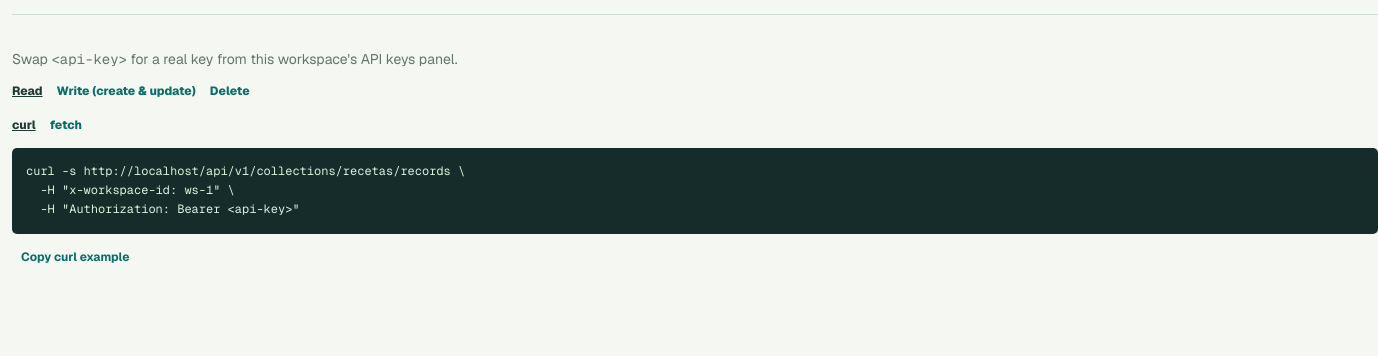
Test: ApiExamplePanel › switches between curl and fetch formats
Click the button "fetch".
click(66, 125)  # box [50, 112, 82, 138]
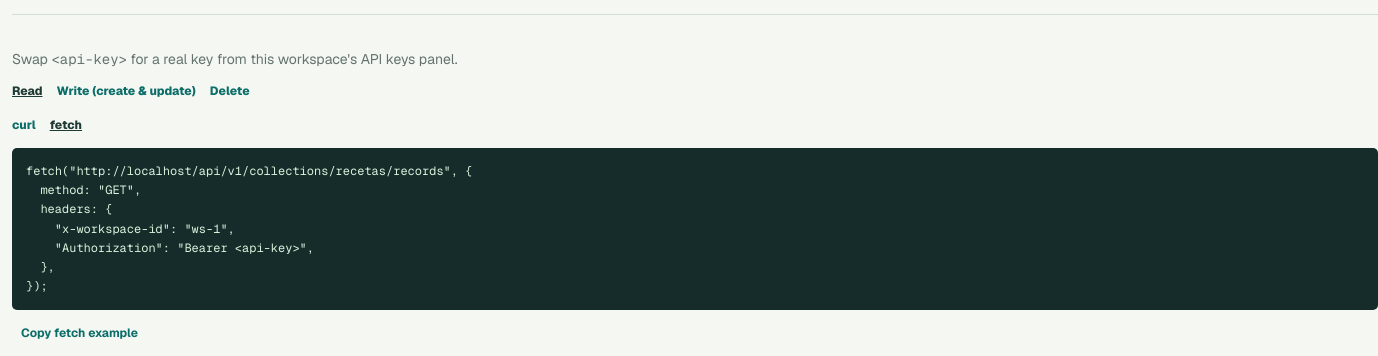
Now the text with class "api-example-snippet" shows "fetch(", box [26, 163, 472, 294]
Now the text with class "api-example-snippet" shows "method: \"GET\"", box [26, 163, 472, 294]
